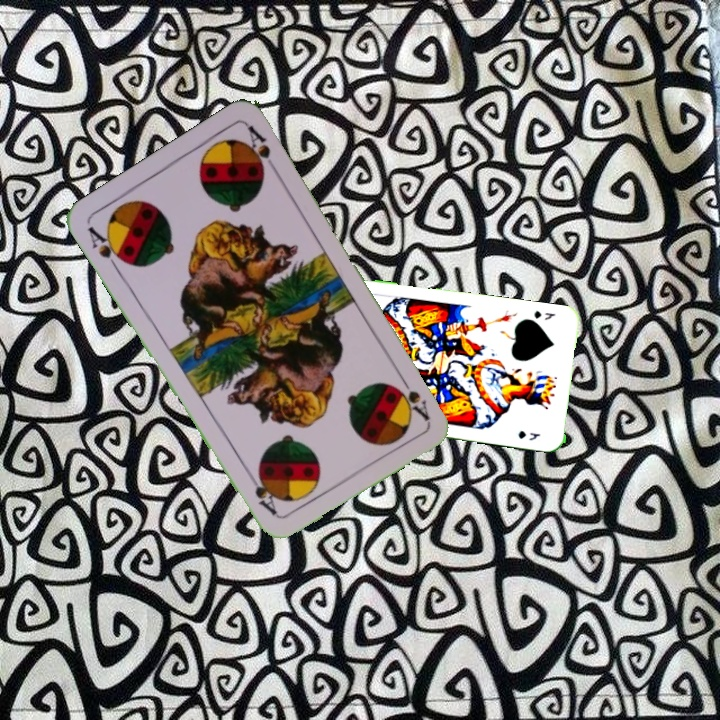GK: (530, 307, 558, 322)
SA: (84, 222, 130, 275), (394, 369, 432, 423)
